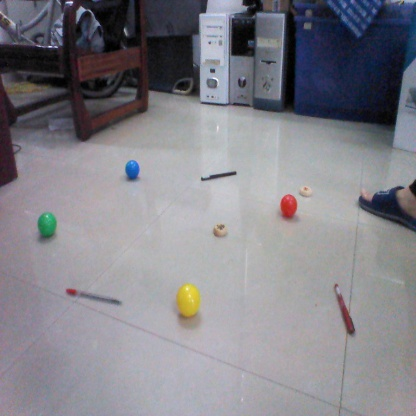ball: (177, 284, 203, 317), (36, 212, 61, 237), (277, 195, 296, 219), (125, 160, 142, 178)
chess: (299, 183, 316, 195), (213, 223, 229, 234)
pen: (330, 281, 355, 334), (65, 289, 120, 305), (203, 169, 239, 179)
